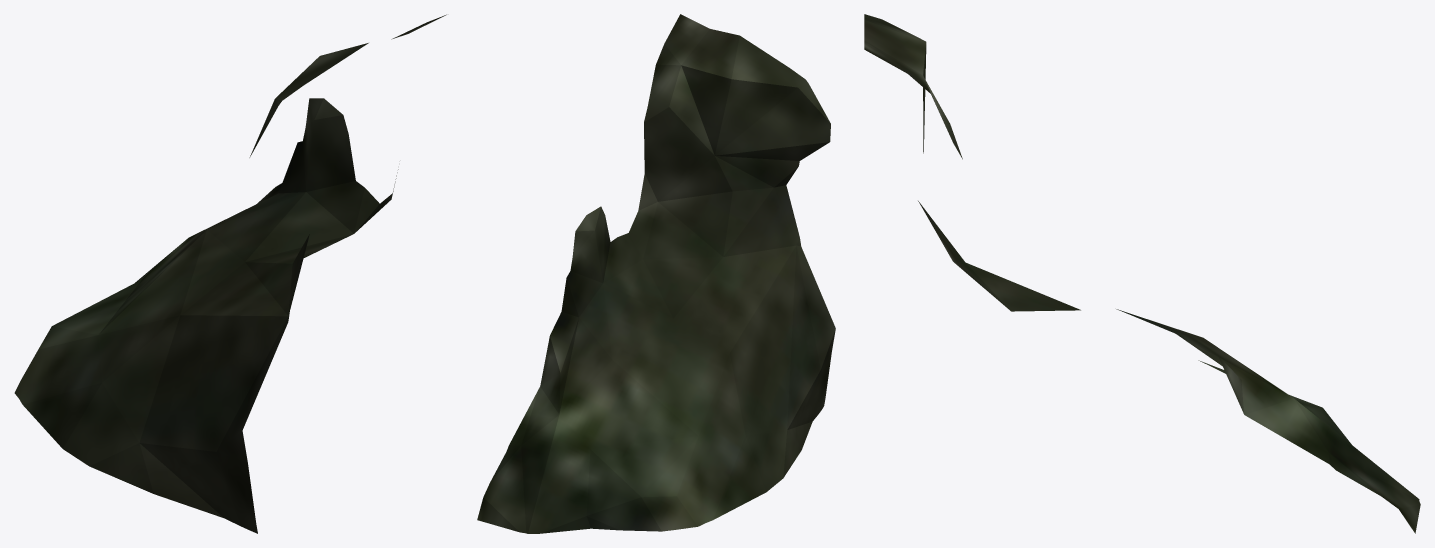
The picture shows the model from 3 angles, left to right: view 1: azimuth 30°, elevation 25°; view 2: azimuth 150°, elevation 25°; view 3: azimuth 270°, elevation 25°; orthographic projection. The views are drawn at different scales.
Size of the model in its own units: 0.3164 by 0.5729 by 0.5964.
1 material, 1 textured.
